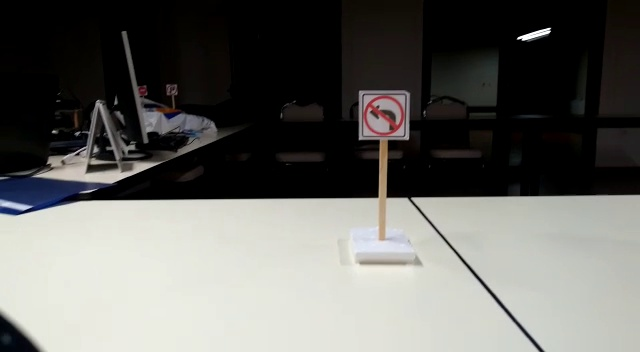sola_donulmez: (362, 93, 409, 135)
